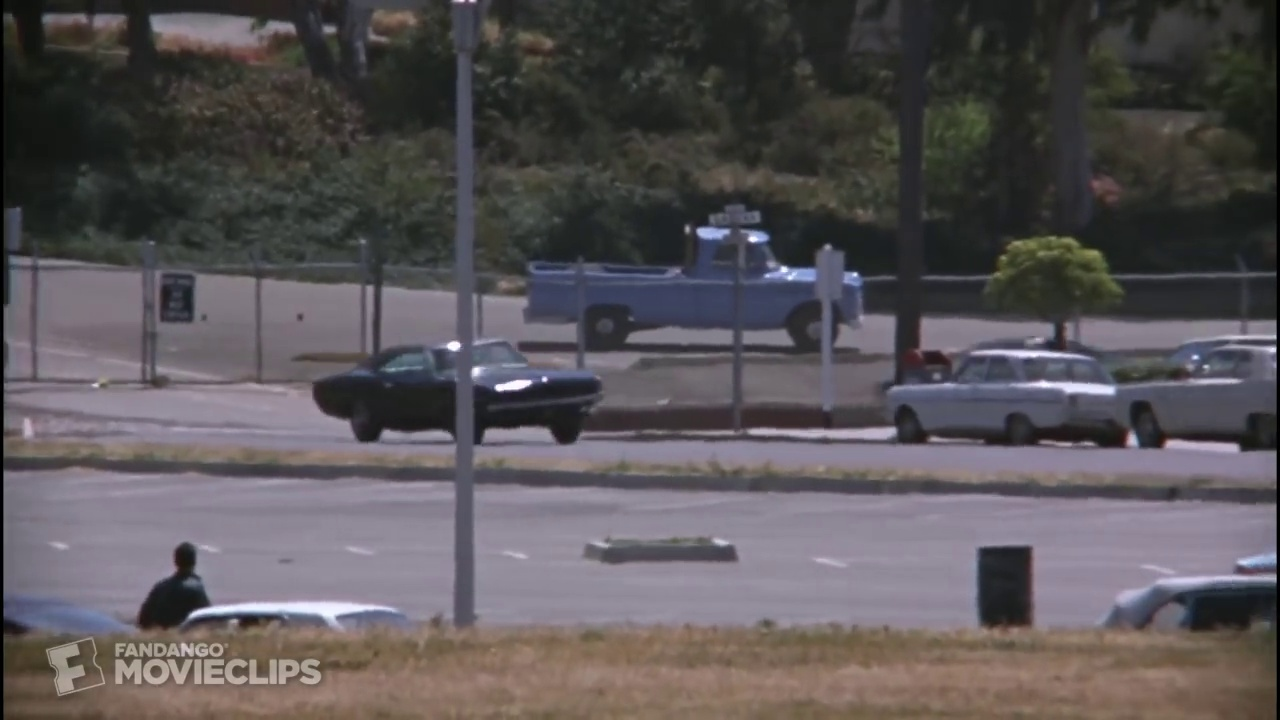car: (304, 336, 609, 447), (881, 347, 1129, 452), (1109, 340, 1280, 455), (1092, 570, 1280, 632), (179, 597, 415, 633)
person: (134, 538, 213, 630)
truck: (520, 221, 869, 354)
